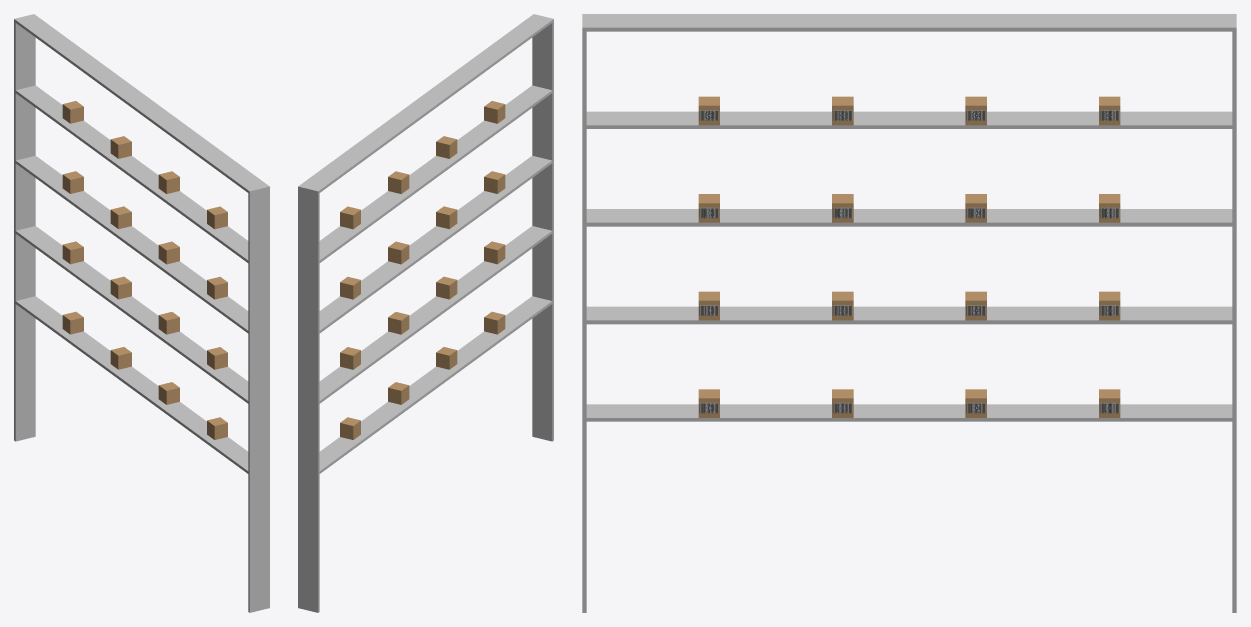
File: barcodeshelf.obj
The picture shows the model from 3 angles, left to right: view 1: azimuth 30°, elevation 25°; view 2: azimuth 150°, elevation 25°; view 3: azimuth 270°, elevation 25°; orthographic projection. The views are drawn at different scales.
Visible parts, largest first — view 1: Body1, Body3, Body9, Body12, Body13, Body14, Body2, Body4, Body8, Body15, Body5, Body10 (+5 smaller); view 2: Body1, Body4, Body10, Body19, Body20, Body21, Body5, Body9, Body11, Body18, Body2, Body3 (+5 smaller); view 3: Body1.
Boxes of the visible parts, x1,y1,x2,y2 form: Body1: (14,14,269,612); Body3: (110,276,131,299); Body9: (158,241,179,264); Body12: (62,311,83,334); Body13: (62,241,83,264); Body14: (62,171,83,193); Body2: (110,347,131,369); Body4: (110,206,131,229); Body8: (158,171,179,193); Body15: (62,101,83,123); Body5: (110,136,131,158); Body10: (158,312,179,334); Body1: (298,14,553,612); Body4: (388,241,409,264); Body10: (436,276,457,299); Body19: (484,171,505,193); Body20: (484,241,505,264); Body21: (484,311,505,334); Body5: (388,171,409,193); Body9: (436,206,457,229); Body11: (436,347,457,369); Body18: (484,101,505,123); Body2: (388,382,409,404); Body3: (388,312,409,334); Body1: (582,14,1236,612).
Bounding box in the file's own units: 0.15 × 3 × 3.04.
